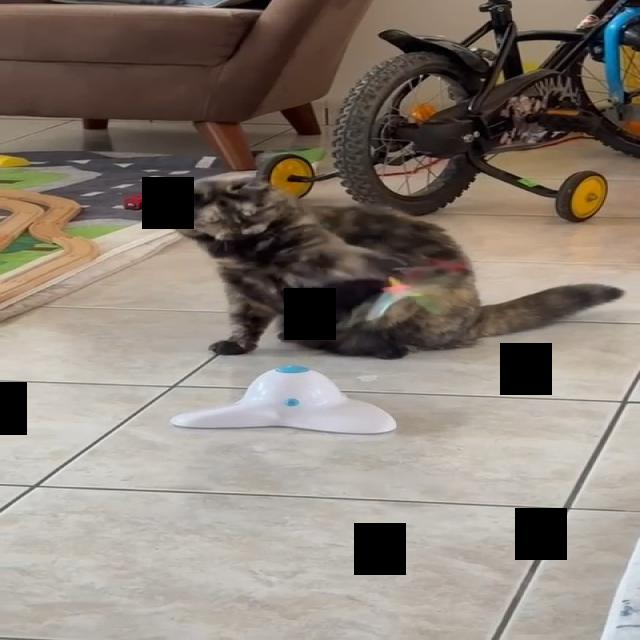authorized: (159, 176, 625, 360)
